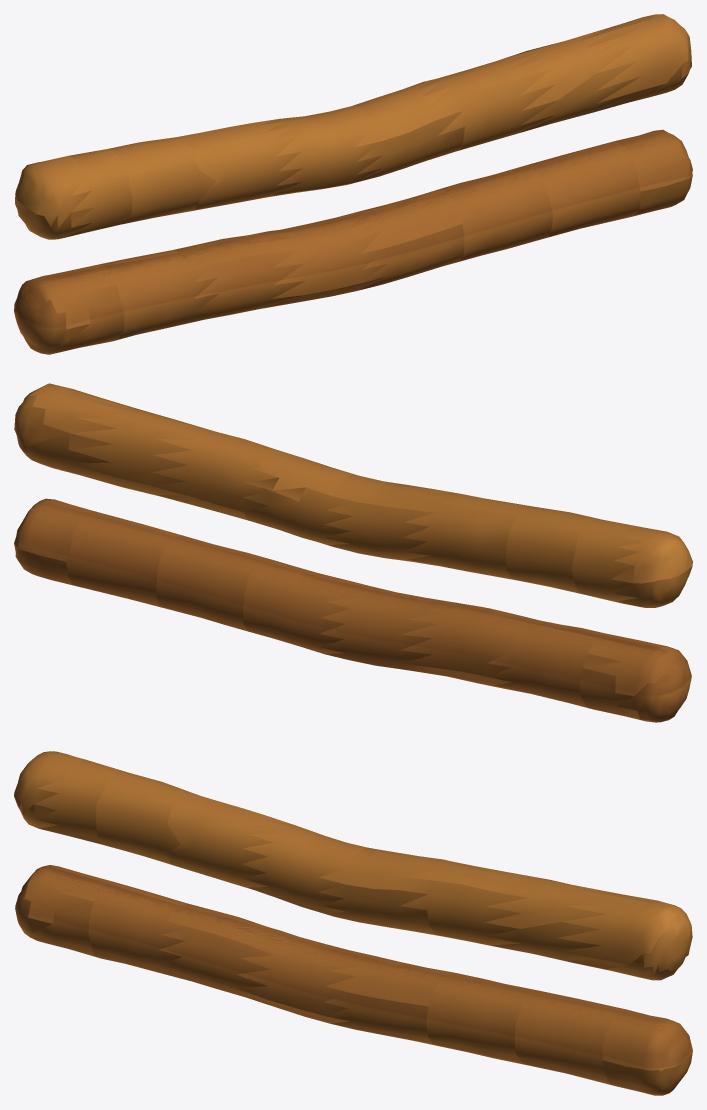
The model's file is fence_rail.glb.
The picture shows the model from 3 angles, top to bottom: view 1: azimuth 30°, elevation 25°; view 2: azimuth 150°, elevation 25°; view 3: azimuth 330°, elevation 25°; orthographic projection.
Parts seen in each view (by area): view 1: mesh_node; view 2: mesh_node; view 3: mesh_node.
Boxes of the visible parts, bbox=[...] form: mesh_node: bbox=[14, 14, 692, 354]; mesh_node: bbox=[14, 383, 692, 722]; mesh_node: bbox=[14, 751, 692, 1095].
Bounding box in the file's own units: 1 × 0.2812 × 0.1047.
1 material, 1 textured.
